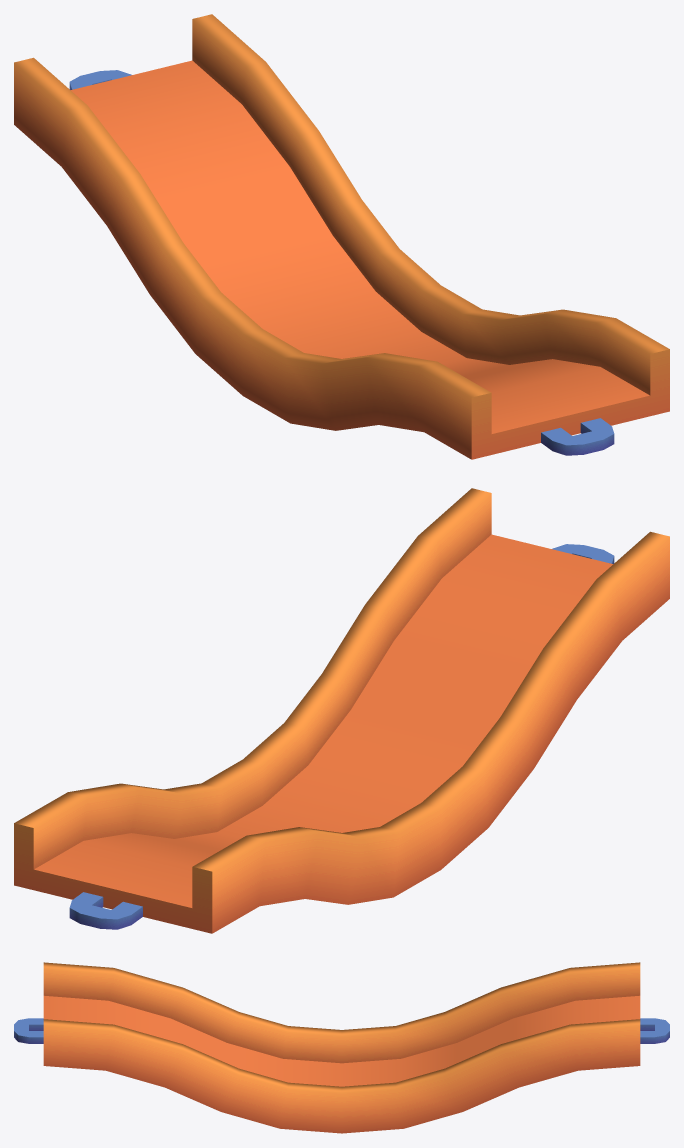
Rendered from track-narrow-straight-bump-down.glb.
3 views of the same model, one above another, from view 1: azimuth 30°, elevation 25°; view 2: azimuth 150°, elevation 25°; view 3: azimuth 270°, elevation 25° (orthographic). The views are drawn at different scales.
Visible parts, largest first — view 1: track-narrow-straight-bump-down; view 2: track-narrow-straight-bump-down; view 3: track-narrow-straight-bump-down.
Part boxes in pixels (bbox=[...]): track-narrow-straight-bump-down: bbox=[14, 14, 669, 459]; track-narrow-straight-bump-down: bbox=[14, 488, 669, 933]; track-narrow-straight-bump-down: bbox=[14, 962, 669, 1133].
Size of the model in its own units: 3 by 2.4 by 13.2.
1 material, 1 textured.
